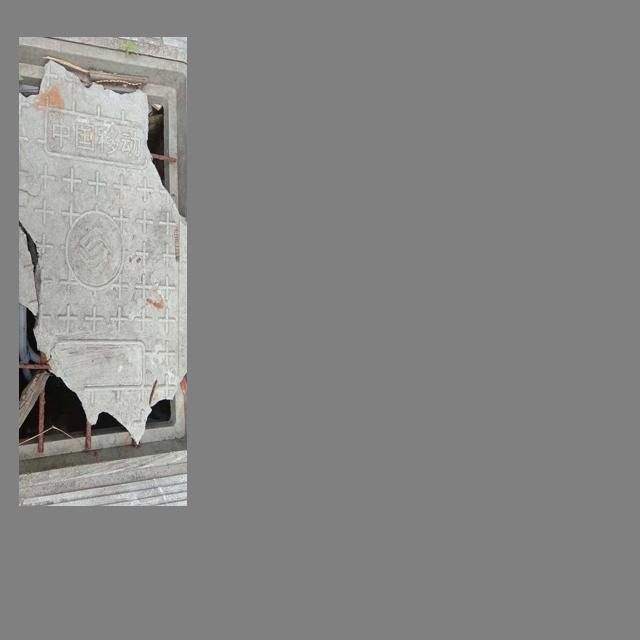broke: (19, 45, 187, 479)
